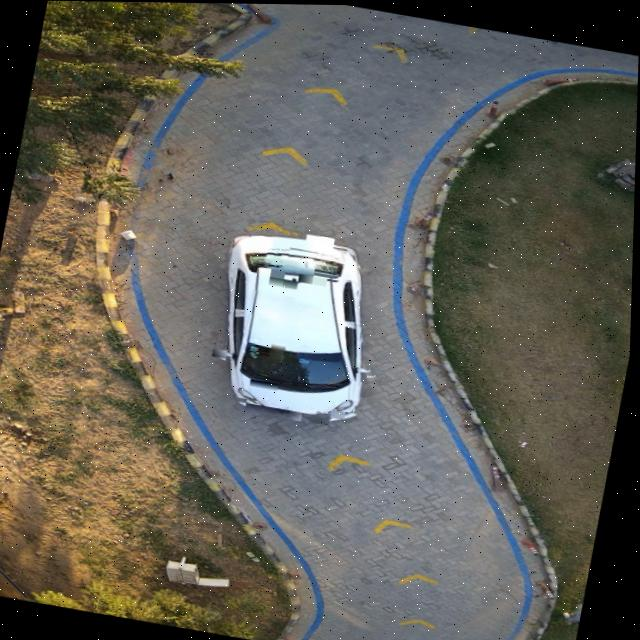car: (215, 233, 367, 420)
